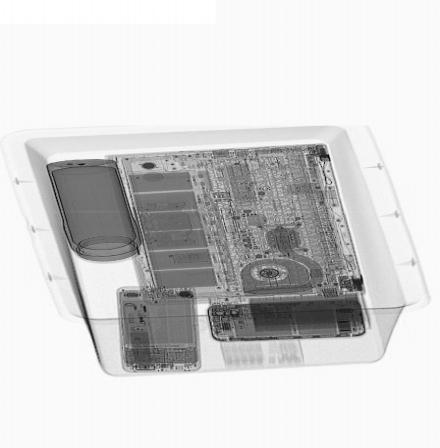Powerbank: (248, 293, 372, 336)
